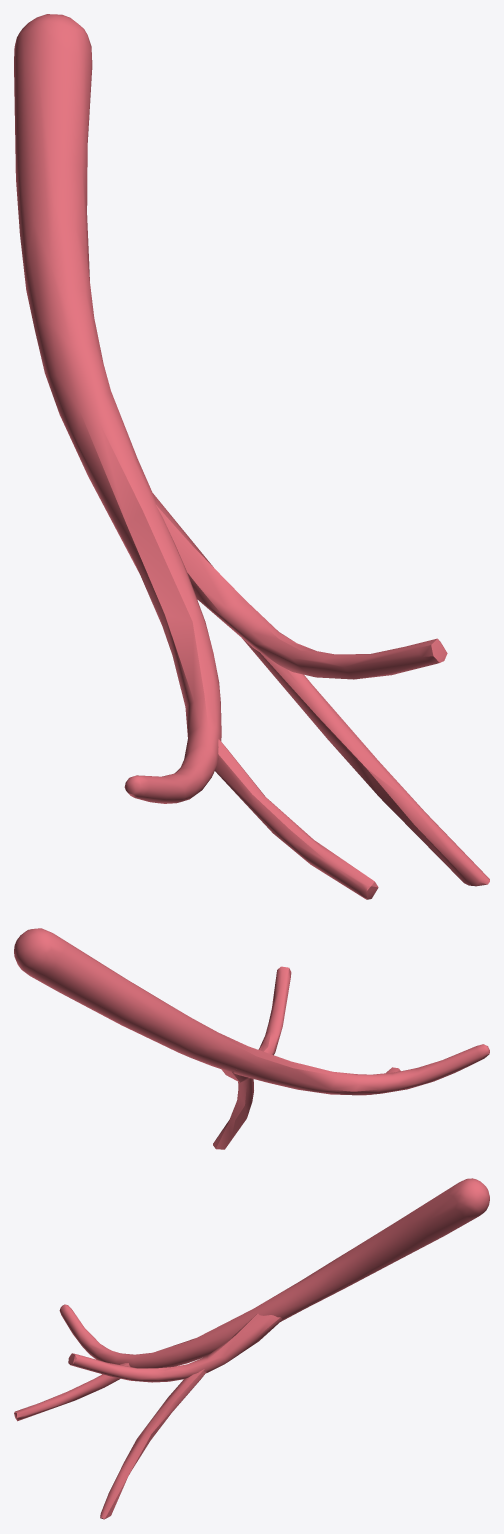
The model's file is fma68193_cx149.glb.
3 views of the same model, one above another, from view 1: azimuth 30°, elevation 25°; view 2: azimuth 150°, elevation 25°; view 3: azimuth 270°, elevation 25° (orthographic). The views are drawn at different scales.
Visible parts, largest first — view 1: FMA68193_CX149; view 2: FMA68193_CX149; view 3: FMA68193_CX149.
Part boxes in pixels (box(x1,y1,x2,y2)): FMA68193_CX149: box(14, 14, 489, 899); FMA68193_CX149: box(14, 928, 489, 1149); FMA68193_CX149: box(14, 1178, 489, 1519).
Size of the model in its own units: 0.0457 by 0.068 by 0.0917.
